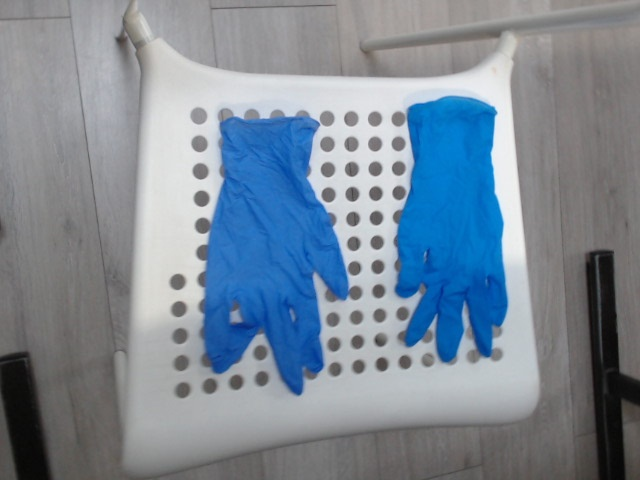medical_glove: (206, 116, 348, 395), (400, 96, 506, 359)
